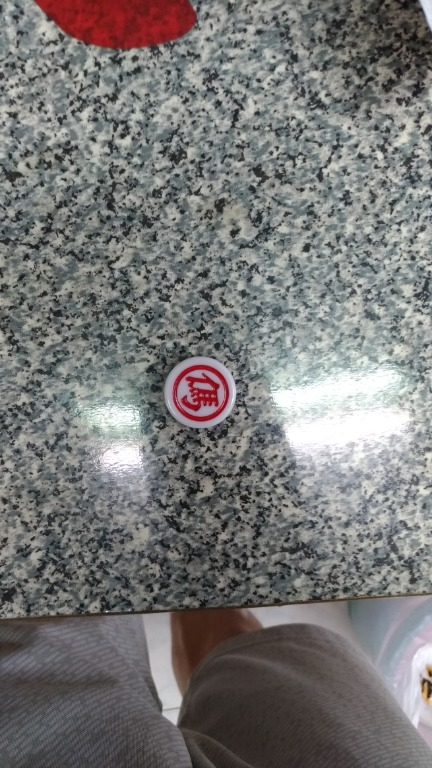r-knight: (161, 352, 248, 433)
